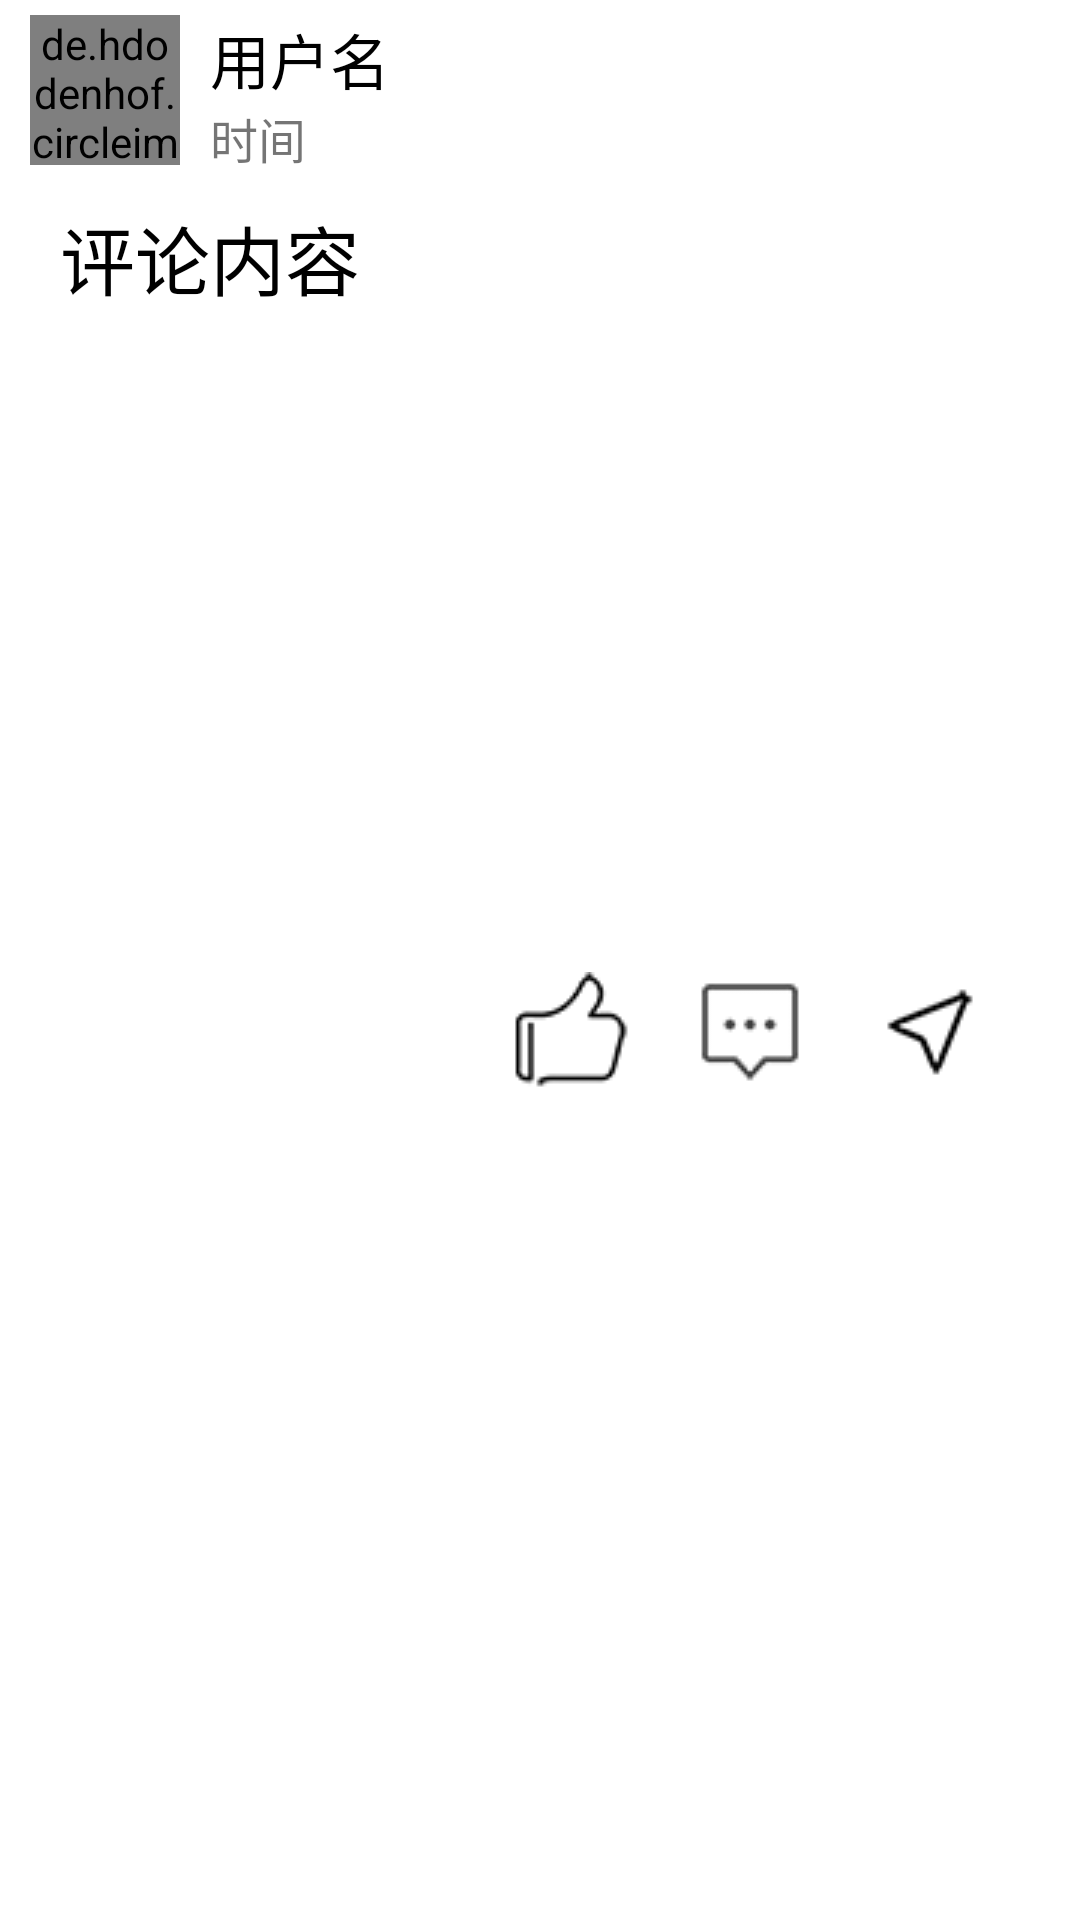

Where icons sit on this 1080×1920 app screen, as (x1, y1, x2, y2):
community comment: (701, 983, 799, 1081)
community forward: (887, 989, 973, 1075)
community like: (515, 972, 628, 1087)
